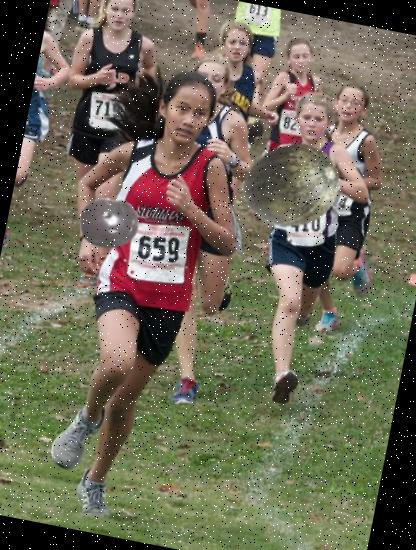Melon: (233, 125, 348, 240)
Passion: (74, 187, 146, 259)
